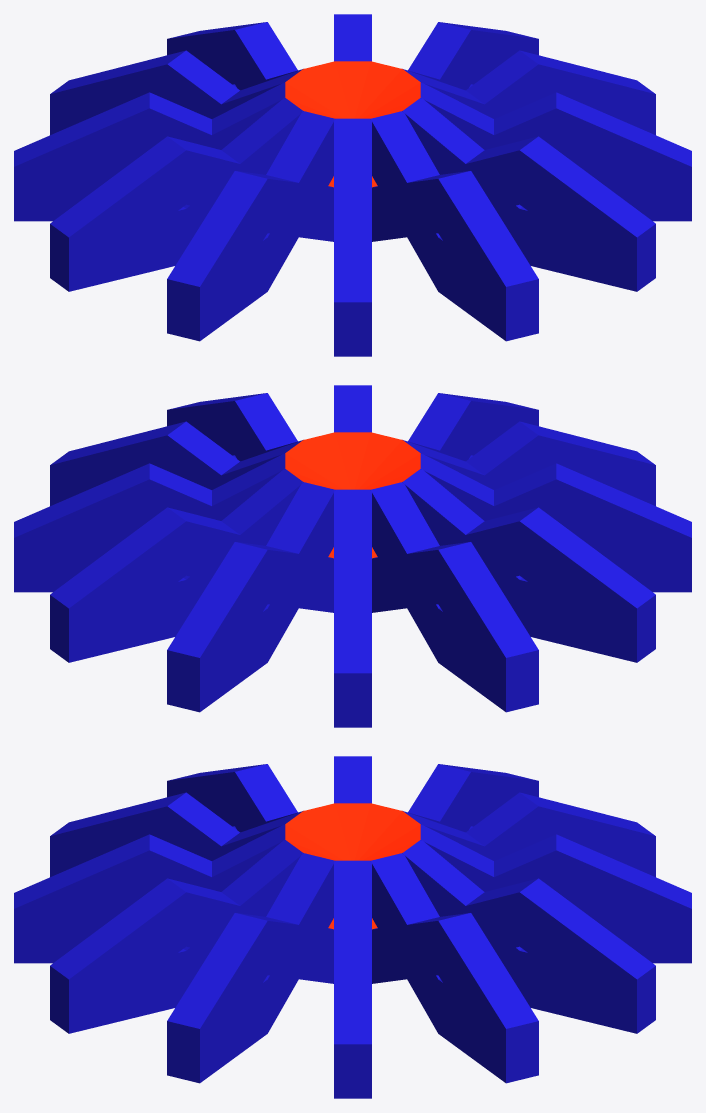
File: ヒトデロボ.fbx
The picture shows the model from 3 angles, top to bottom: view 1: azimuth 30°, elevation 25°; view 2: azimuth 150°, elevation 25°; view 3: azimuth 270°, elevation 25°; orthographic projection.
Visible parts, largest first — view 1: Cube; view 2: Cube; view 3: Cube.
Part boxes in pixels (<box>): Cube: <box>14,14,691,356</box>; Cube: <box>14,385,691,727</box>; Cube: <box>14,756,691,1098</box>.
Size of the model in its own units: 200 by 40.15 by 200.
